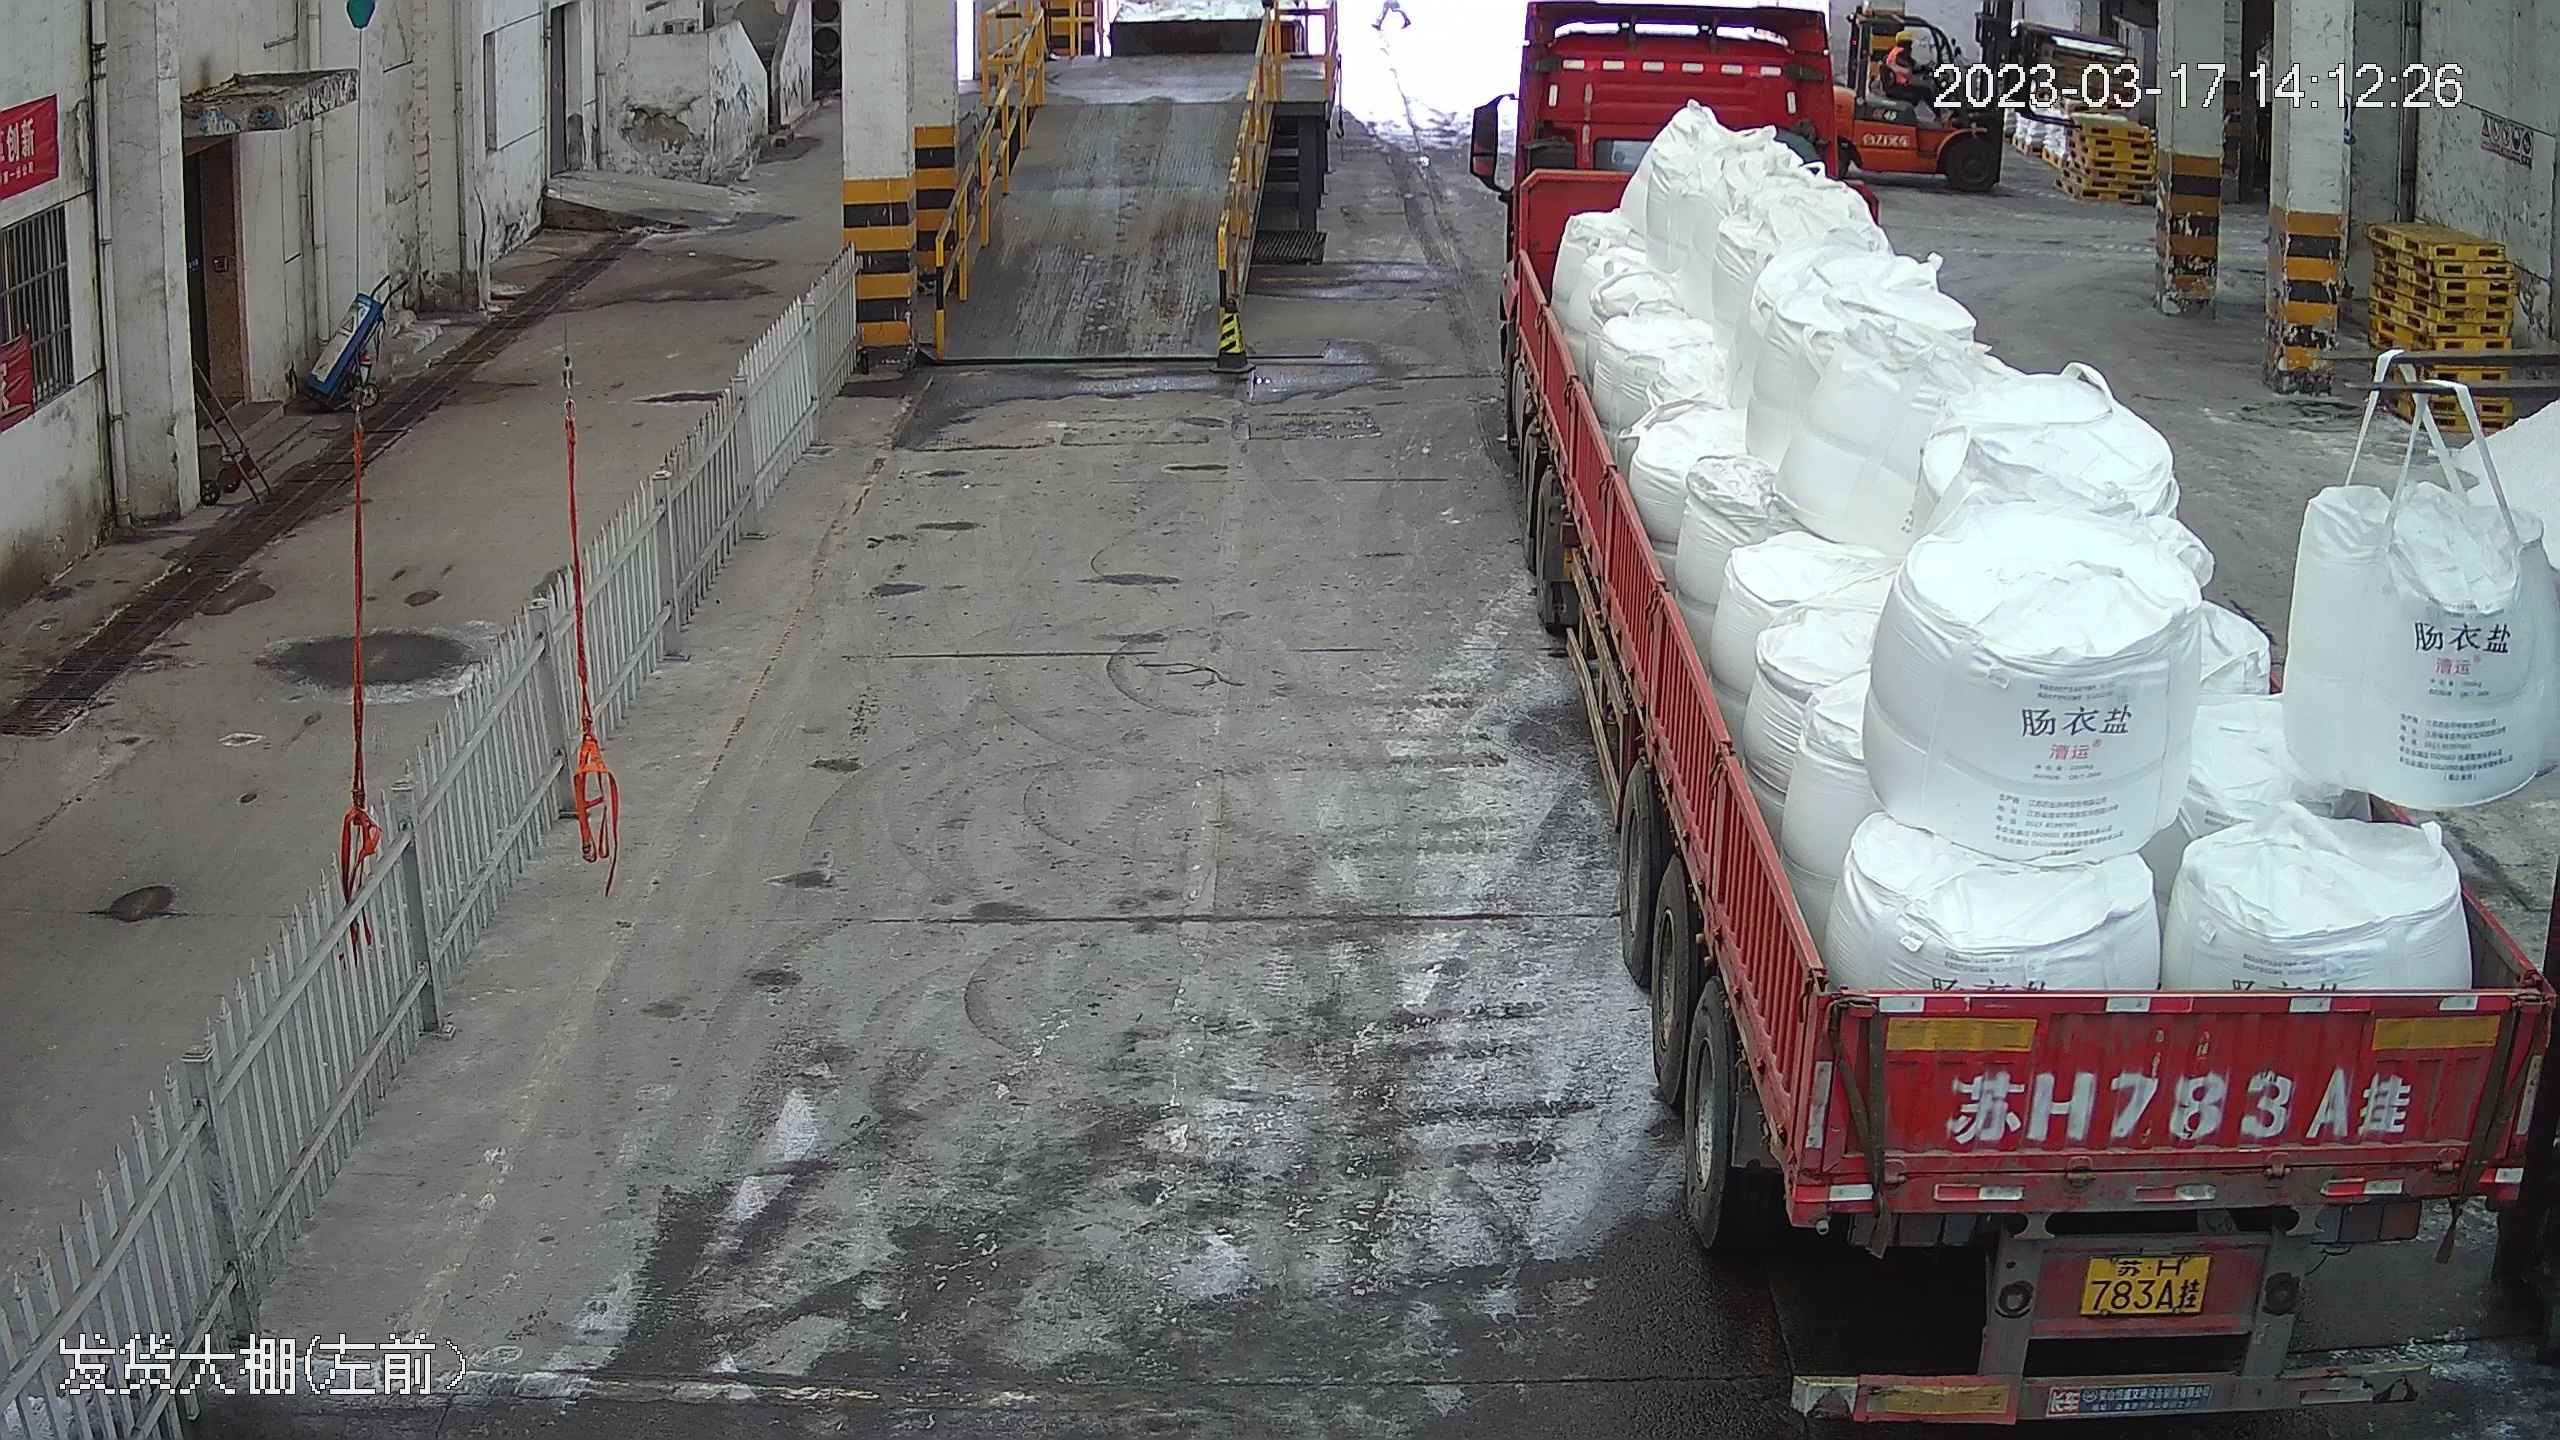head: (1875, 24, 1921, 71)
helmet: (1892, 30, 1914, 44)
people: (1872, 22, 1937, 116)
truck: (1470, 7, 2556, 1408)
